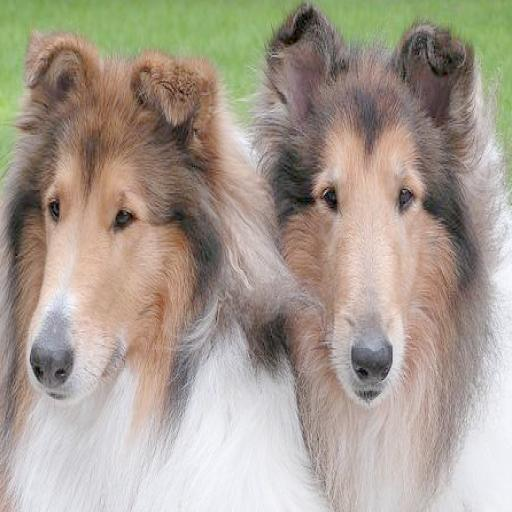dog_face: (255, 0, 491, 422), (17, 33, 218, 404)
